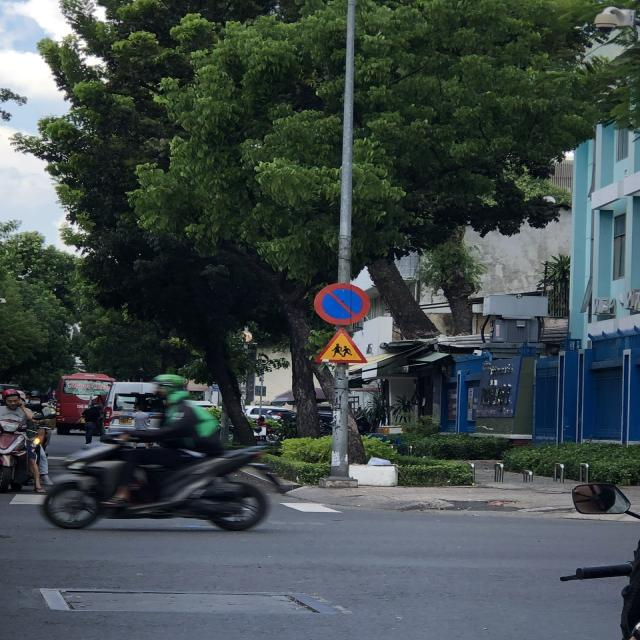Bien bao cam do xe: (312, 281, 374, 327)
Bien bao tre em: (312, 326, 372, 366)
